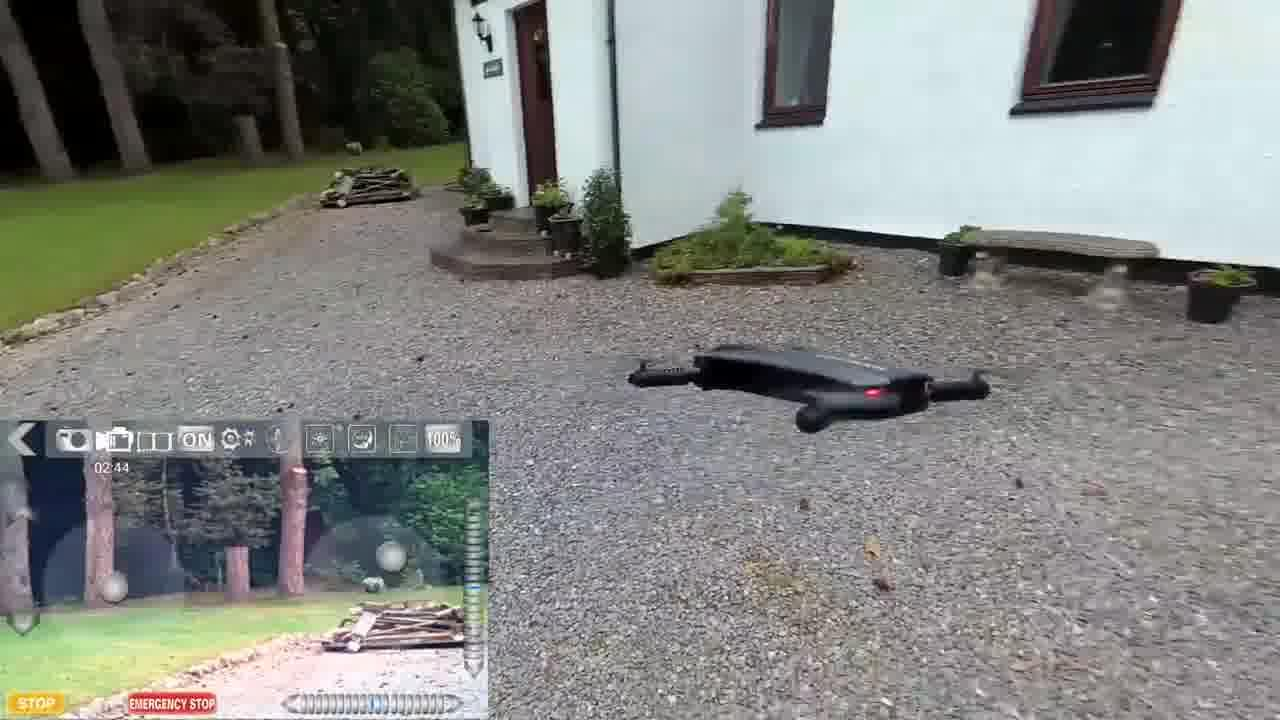drone: (628, 318, 999, 442)
